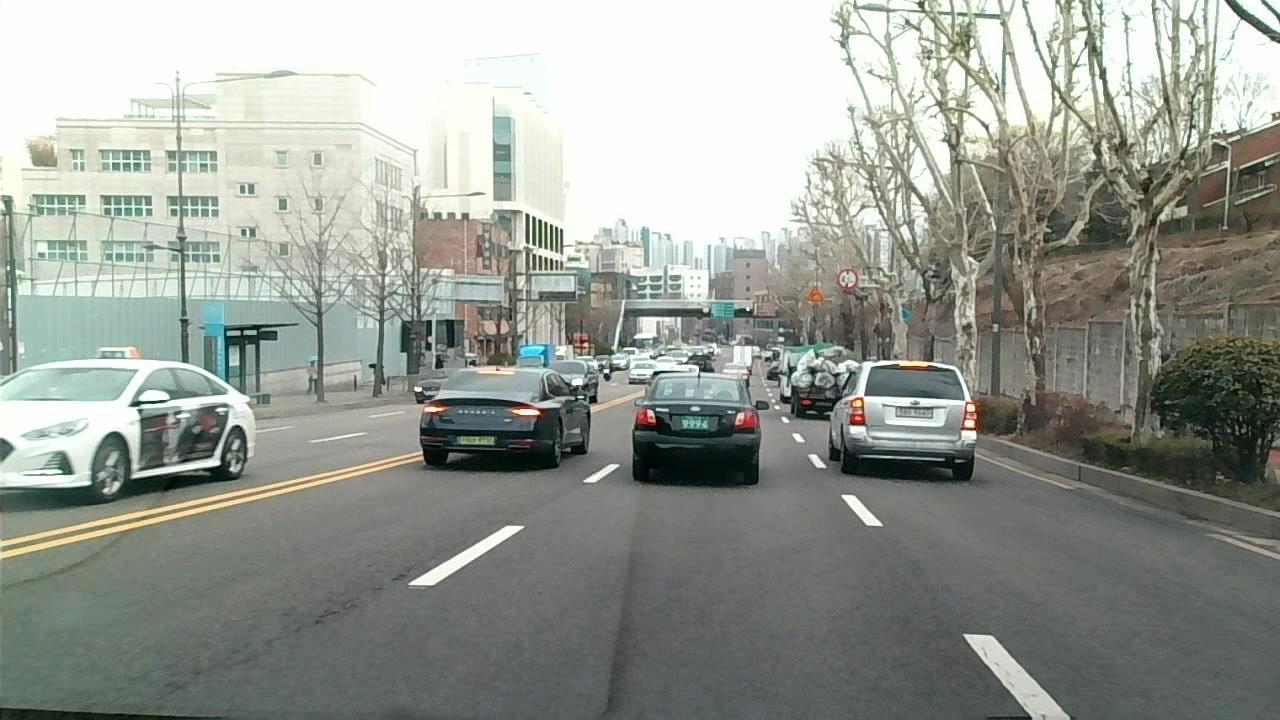banner: (249, 567, 420, 662)
